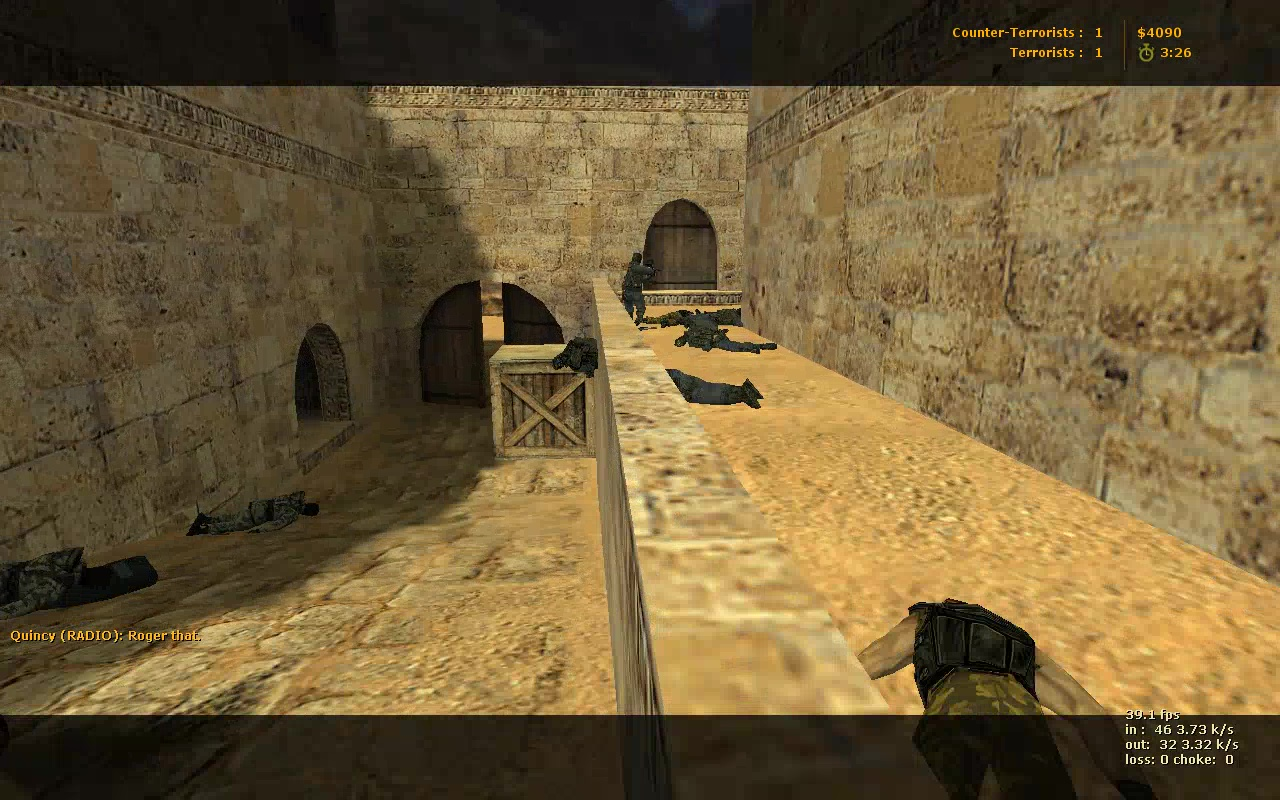ct: (622, 251, 660, 326)
dead: (854, 596, 1154, 800), (1, 547, 109, 614), (187, 491, 317, 535), (665, 371, 756, 403), (679, 322, 775, 352), (639, 307, 695, 329), (692, 306, 742, 326)
